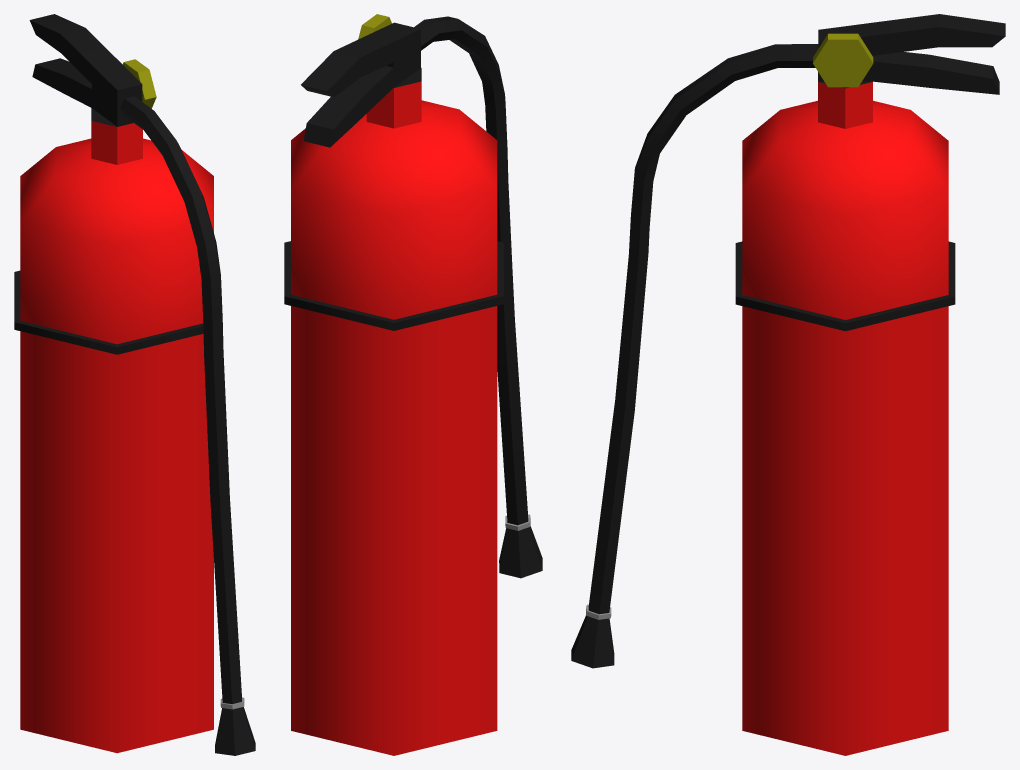
Rendered from extintor.FBX.
The picture shows the model from 3 angles, left to right: view 1: azimuth 30°, elevation 25°; view 2: azimuth 150°, elevation 25°; view 3: azimuth 270°, elevation 25°; orthographic projection. The views are drawn at different scales.
Parts seen in each view (by area): view 1: Object001; view 2: Object001; view 3: Object001.
Part boxes in pixels (x1=…): Object001: x1=14, y1=14, x2=255, y2=755; Object001: x1=284, y1=14, x2=542, y2=755; Object001: x1=571, y1=14, x2=1005, y2=755.
Size of the model in its own units: 6.7 by 19.99 by 11.49.
